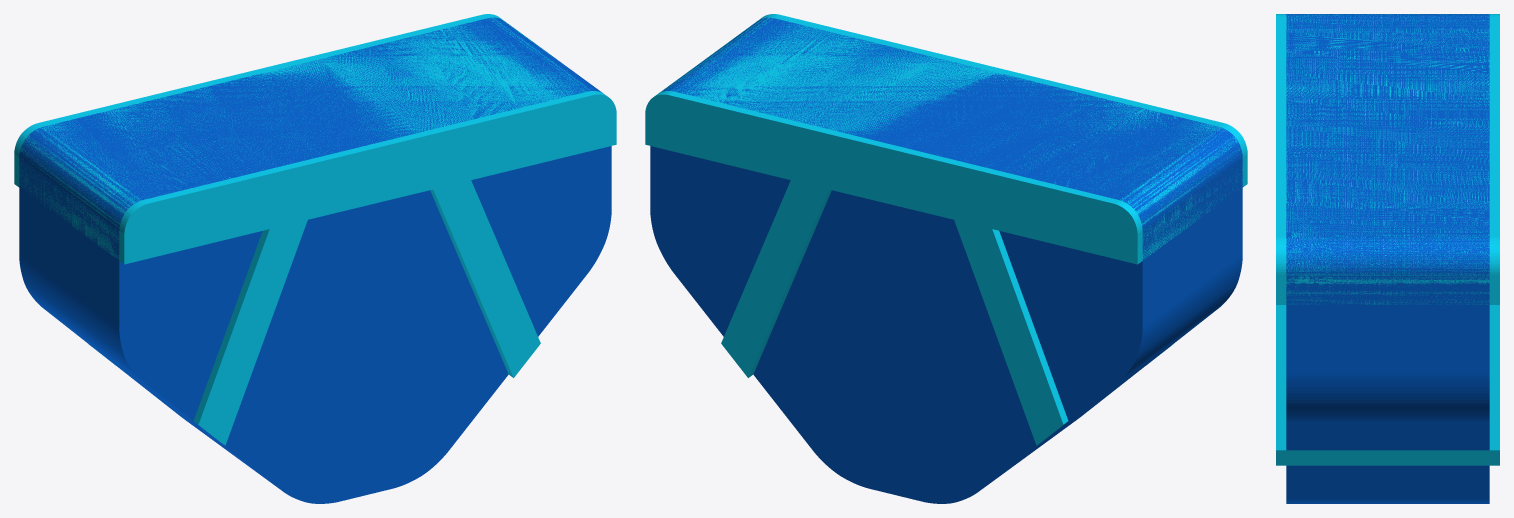
3 renders of one model, left to right at view 1: azimuth 30°, elevation 25°; view 2: azimuth 150°, elevation 25°; view 3: azimuth 270°, elevation 25°, orthographic.
Visible parts, largest first — view 1: U+1FA72_layer00_obj00, U+1FA72_layer01_obj00; view 2: U+1FA72_layer00_obj00, U+1FA72_layer01_obj00; view 3: U+1FA72_layer00_obj00, U+1FA72_layer01_obj00.
Boxes of the visible parts, x1,y1,x2,y2 form: U+1FA72_layer00_obj00: (19,17,611,503); U+1FA72_layer01_obj00: (14,14,616,445); U+1FA72_layer00_obj00: (650,17,1242,503); U+1FA72_layer01_obj00: (645,14,1247,445); U+1FA72_layer00_obj00: (1286,14,1489,503); U+1FA72_layer01_obj00: (1276,14,1499,465).
Bounding box in the file's own units: 0.5678 × 0.3852 × 0.22.
